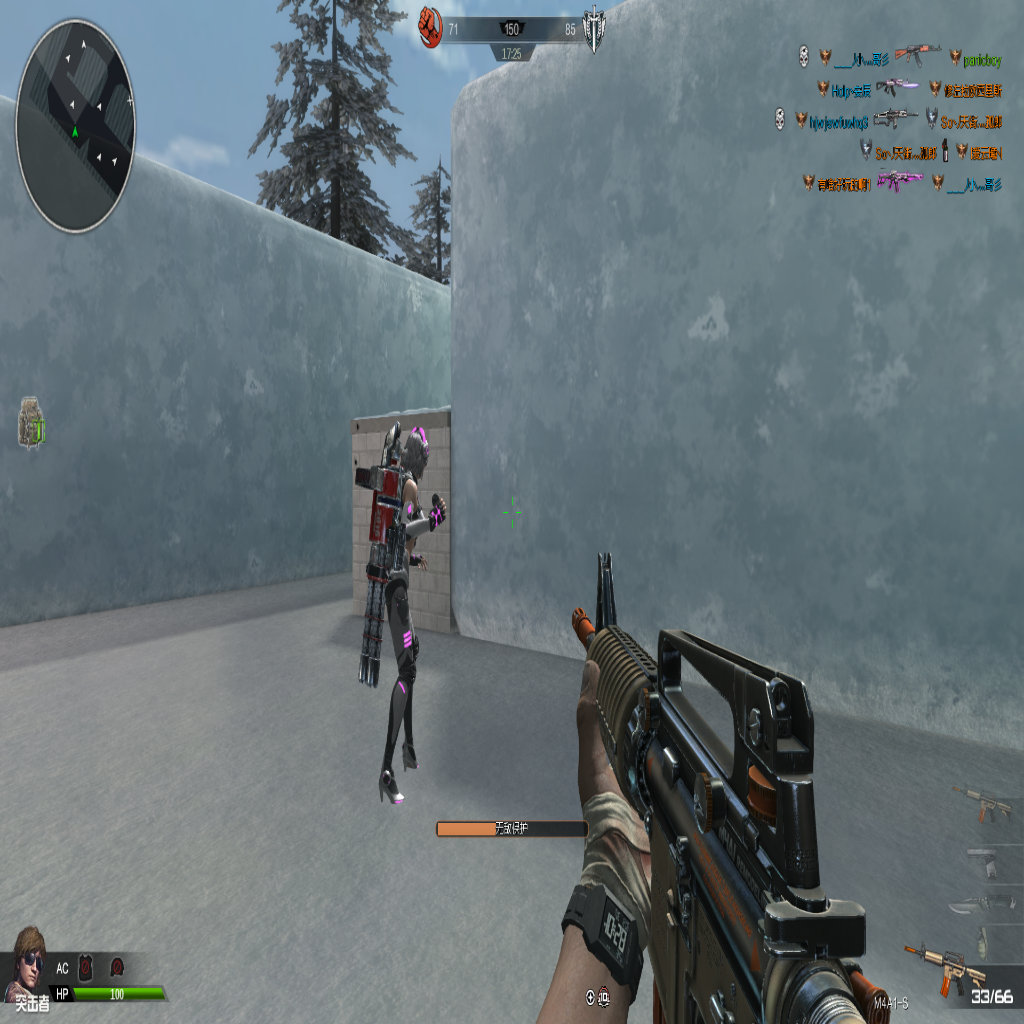tt: (363, 419, 442, 796)
